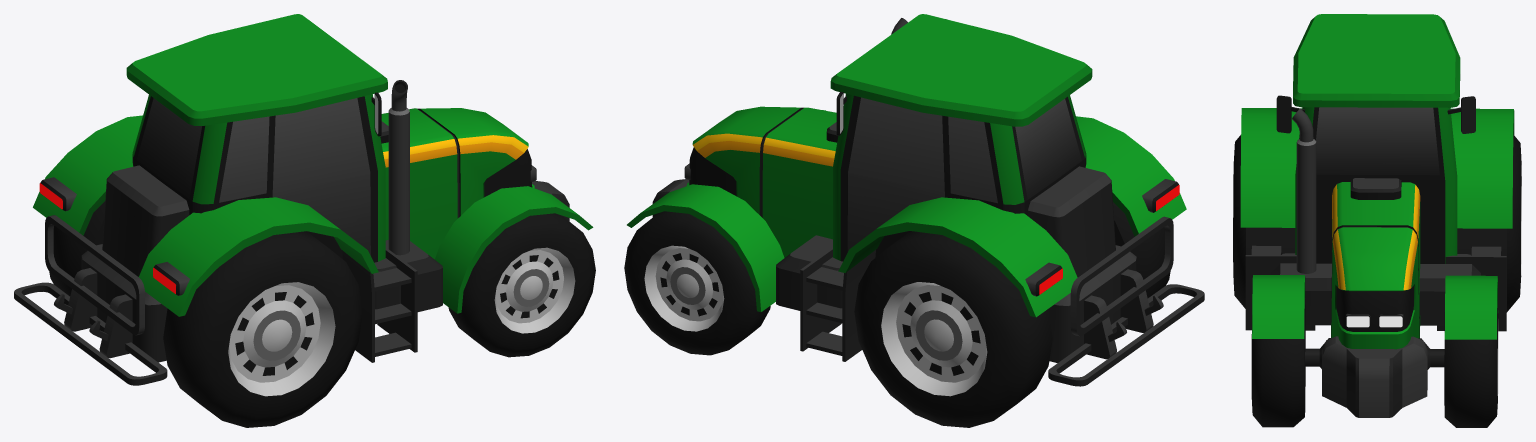
The model's file is Construction_009.glb.
3 renders of one model, left to right at view 1: azimuth 30°, elevation 25°; view 2: azimuth 150°, elevation 25°; view 3: azimuth 270°, elevation 25°, orthographic. The views are drawn at different scales.
Parts seen in each view (by area): view 1: Construction_009, wheel_3_Construction_009_Wheel_2R, wheel_1_Construction_009_Wheel_1R, wheel_2_Construction_009_Wheel_2L; view 2: Construction_009, wheel_2_Construction_009_Wheel_2L, wheel_0_Construction_009_Wheel_1L, wheel_3_Construction_009_Wheel_2R; view 3: Construction_009, wheel_0_Construction_009_Wheel_1L, wheel_1_Construction_009_Wheel_1R, wheel_2_Construction_009_Wheel_2L, wheel_3_Construction_009_Wheel_2R.
Boxes of the visible parts, bbox=[...] form: Construction_009: bbox=[14, 14, 569, 385]; wheel_3_Construction_009_Wheel_2R: bbox=[163, 231, 362, 427]; wheel_1_Construction_009_Wheel_1R: bbox=[435, 186, 595, 357]; wheel_2_Construction_009_Wheel_2L: bbox=[49, 201, 105, 296]; Construction_009: bbox=[652, 14, 1204, 386]; wheel_2_Construction_009_Wheel_2L: bbox=[854, 231, 1052, 427]; wheel_0_Construction_009_Wheel_1L: bbox=[624, 184, 784, 355]; wheel_3_Construction_009_Wheel_2R: bbox=[1113, 202, 1170, 298]; Construction_009: bbox=[1240, 14, 1514, 417]; wheel_0_Construction_009_Wheel_1L: bbox=[1444, 275, 1498, 427]; wheel_1_Construction_009_Wheel_1R: bbox=[1251, 275, 1305, 427]; wheel_2_Construction_009_Wheel_2L: bbox=[1507, 134, 1521, 311]; wheel_3_Construction_009_Wheel_2R: bbox=[1233, 135, 1245, 308].
Size of the model in its own units: 3.99 by 2.31 by 2.23.
2 materials, 2 textured.
